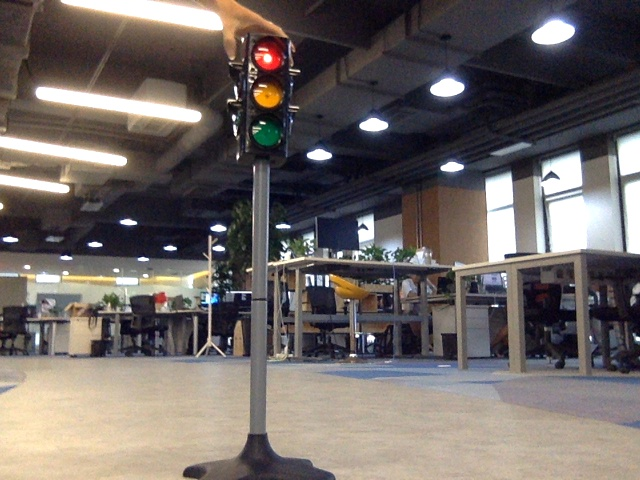red: (250, 43, 285, 149)
